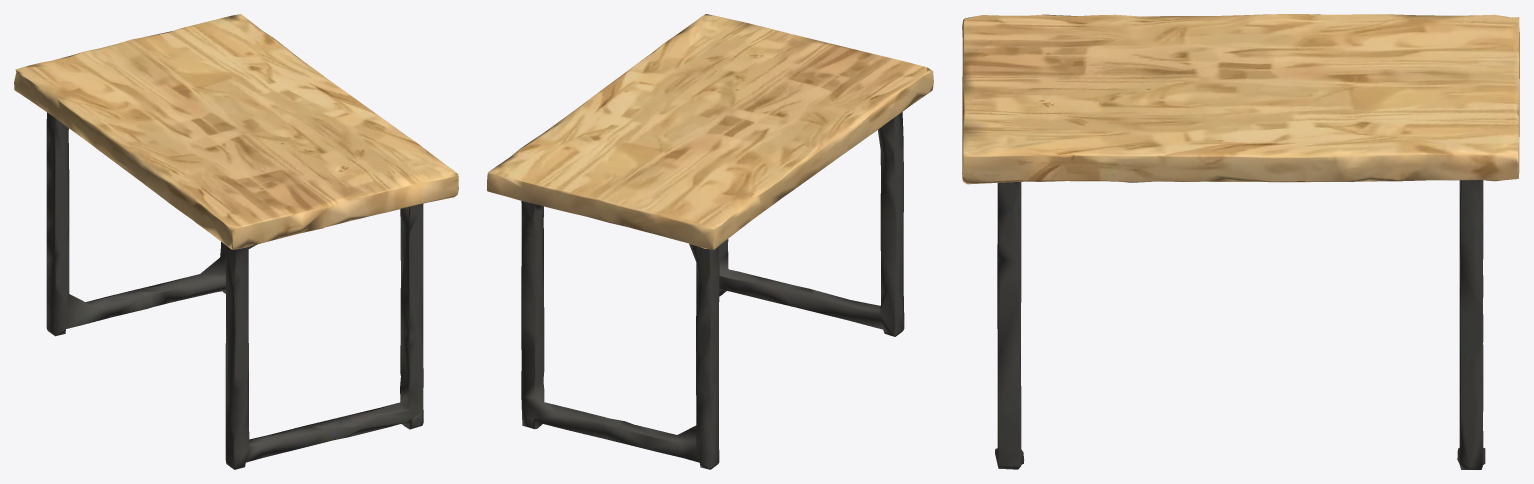
Rendered from desk.glb.
The picture shows the model from 3 angles, left to right: view 1: azimuth 30°, elevation 25°; view 2: azimuth 150°, elevation 25°; view 3: azimuth 270°, elevation 25°; orthographic projection. The views are drawn at different scales.
Parts seen in each view (by area): view 1: tripo_node_ef7b86bb-7805-4185-8651-1d0d43125781; view 2: tripo_node_ef7b86bb-7805-4185-8651-1d0d43125781; view 3: tripo_node_ef7b86bb-7805-4185-8651-1d0d43125781.
Part boxes in pixels (x1=…): tripo_node_ef7b86bb-7805-4185-8651-1d0d43125781: x1=14, y1=14, x2=458, y2=469; tripo_node_ef7b86bb-7805-4185-8651-1d0d43125781: x1=487, y1=14, x2=933, y2=469; tripo_node_ef7b86bb-7805-4185-8651-1d0d43125781: x1=962, y1=14, x2=1519, y2=469.
Size of the model in its own units: 0.5982 by 0.6572 by 1.
1 material, 1 textured.
